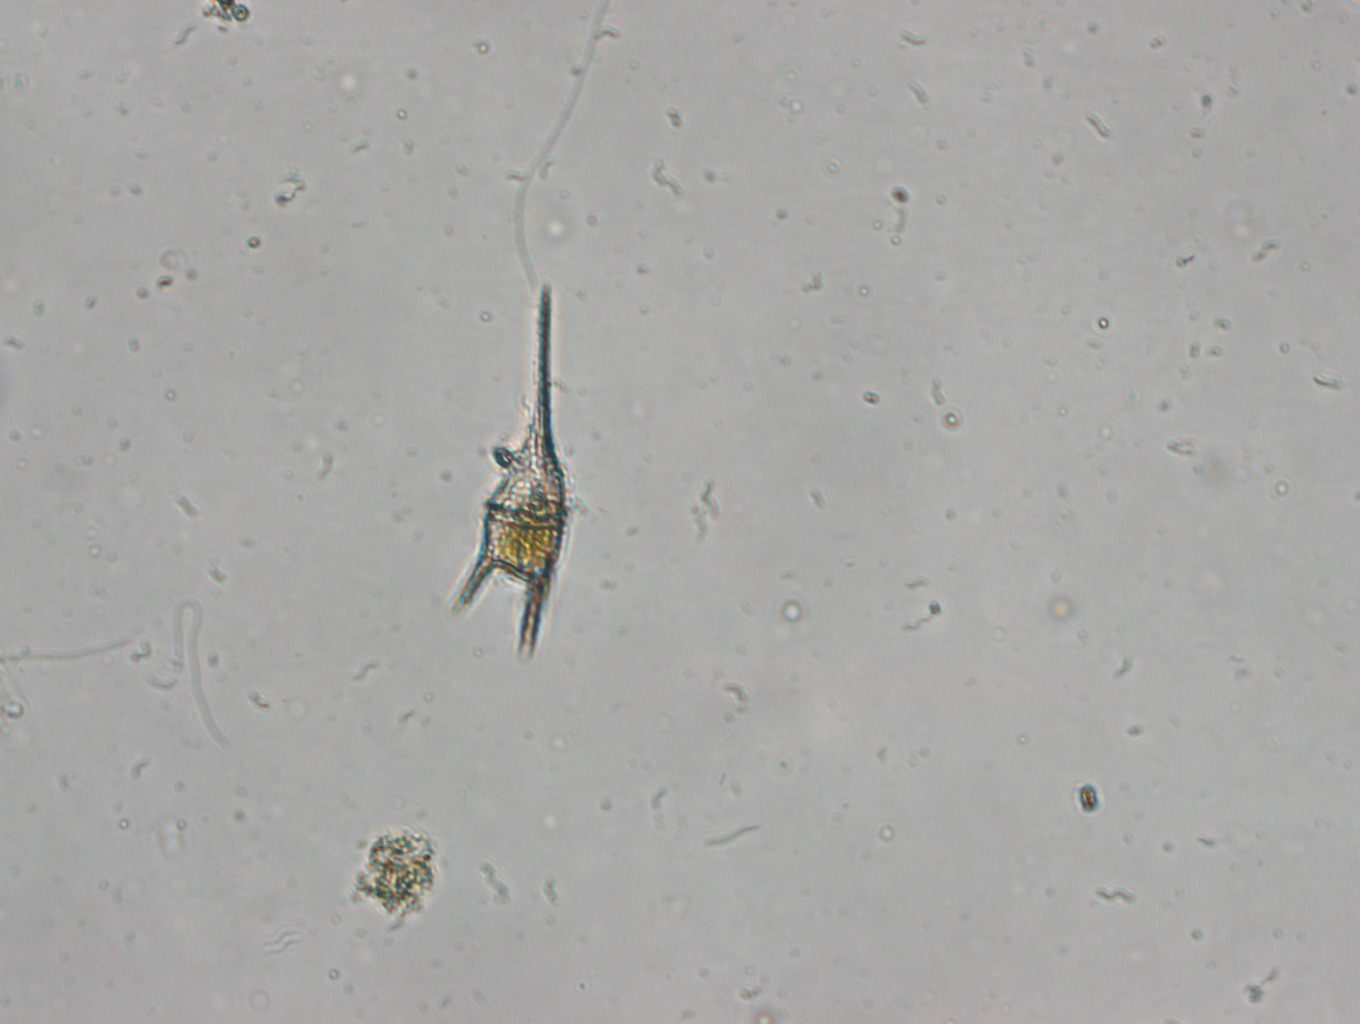ceratium furca: (452, 279, 582, 667)
